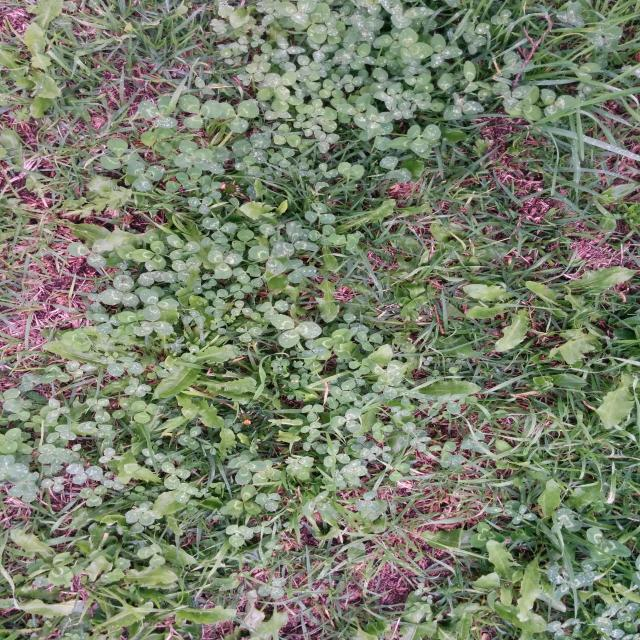Four Leaf Clover: (174, 140, 214, 170), (124, 377, 152, 397)
